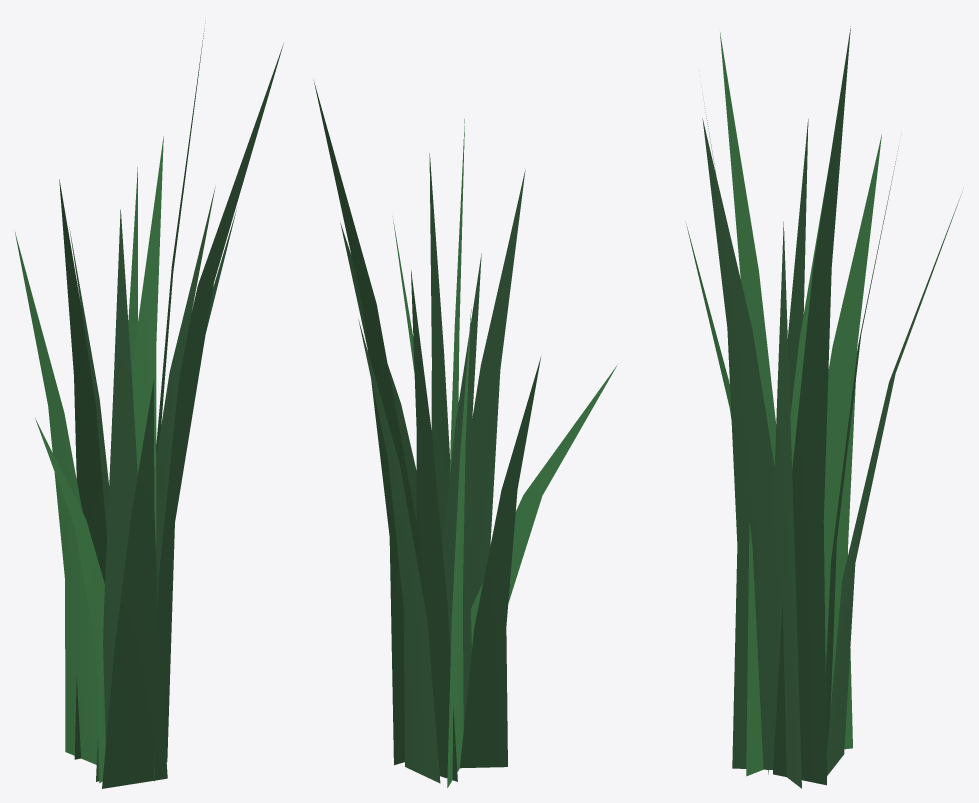
File: meadow_grass.glb
The picture shows the model from 3 angles, left to right: view 1: azimuth 30°, elevation 25°; view 2: azimuth 150°, elevation 25°; view 3: azimuth 270°, elevation 25°; orthographic projection. The views are drawn at different scales.
Visible parts, largest first — view 1: body; view 2: body; view 3: body.
Part boxes in pixels (left/top/right/bottom): body: left=15, top=23, right=283, bottom=788; body: left=313, top=80, right=617, bottom=787; body: left=686, top=26, right=962, bottom=788.
Size of the model in its own units: 0.3318 by 0.8826 by 0.31.
